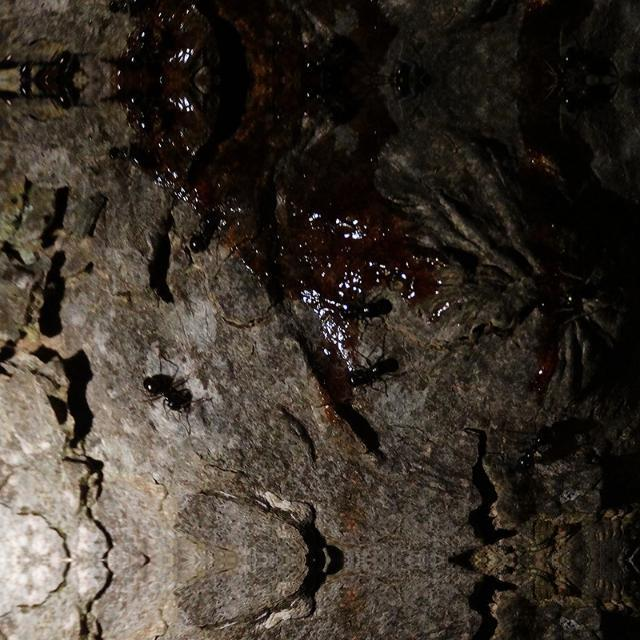Lasius: (138, 358, 190, 420)
